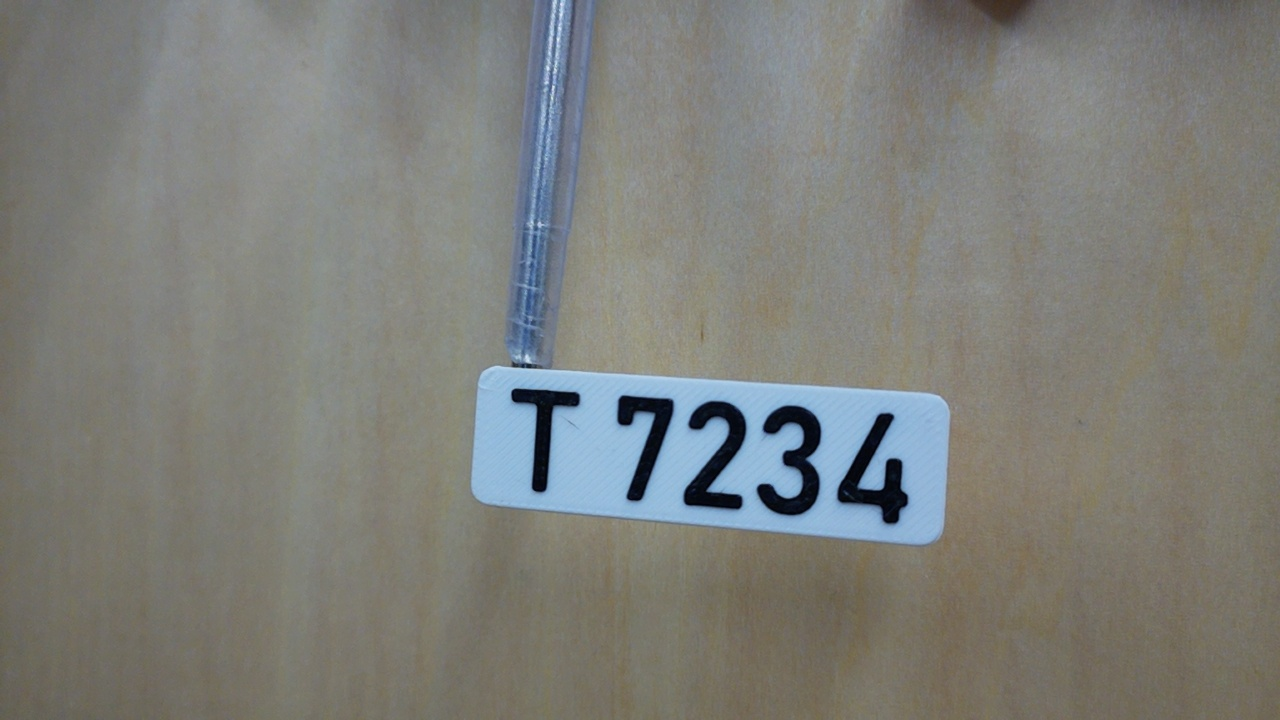license_plate: (466, 360, 955, 548)
